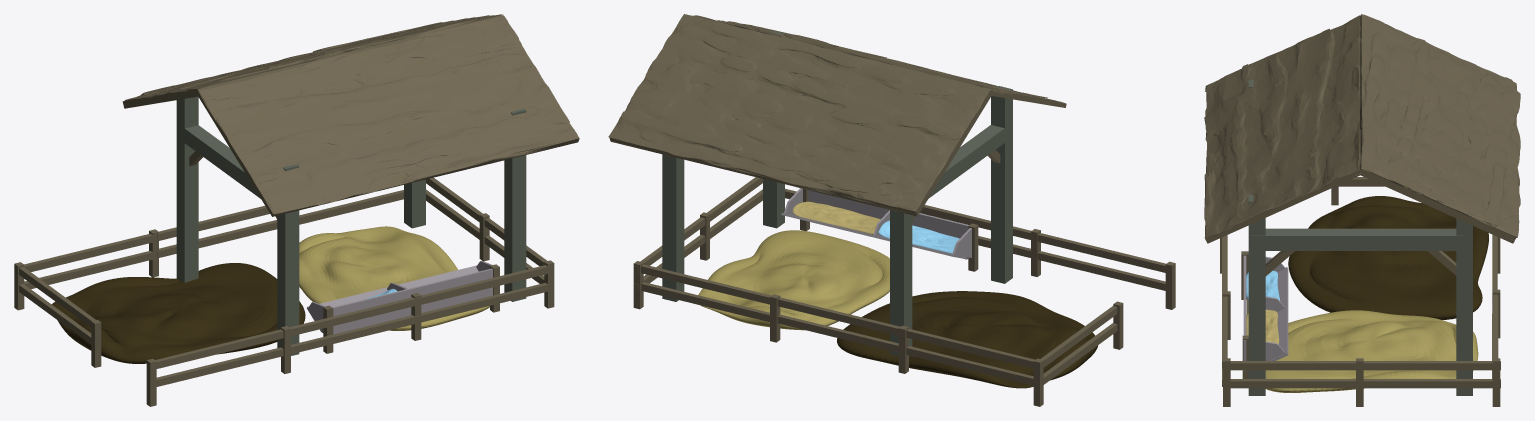
The model's file is свинарник.fbx.
The picture shows the model from 3 angles, left to right: view 1: azimuth 30°, elevation 25°; view 2: azimuth 150°, elevation 25°; view 3: azimuth 270°, elevation 25°; orthographic projection. The views are drawn at different scales.
Visible parts, largest first — view 1: Cube.005, Sphere, Sphere.003, Cube.004, Cube.002, Cube.042, Cube.003, Cube.006, Cube.034, Cube.018, Cube.019, Cube.021 (+16 smaller); view 2: Cube.004, Sphere, Sphere.003, Cube.006, Cube.001, Cube.002, Cube.005, Cube.034, Cube.042, Sphere.001, Cube.022, Cube.023 (+17 smaller); view 3: Cube.004, Cube.005, Sphere, Sphere.003, Cube.035, Cube.003, Cube.001, Cube, Cube.015, Cube.016, Cube.017, Cube.043 (+13 smaller).
Part boxes in pixels (bbox=[...]): Cube.005: bbox=[197, 16, 579, 216]; Sphere: bbox=[52, 263, 305, 363]; Sphere.003: bbox=[299, 226, 489, 330]; Cube.004: bbox=[122, 14, 503, 108]; Cube.002: bbox=[176, 96, 198, 282]; Cube.042: bbox=[332, 268, 492, 334]; Cube.003: bbox=[504, 108, 526, 301]; Cube.006: bbox=[277, 164, 299, 355]; Cube.034: bbox=[184, 125, 284, 215]; Cube.018: bbox=[419, 265, 550, 305]; Cube.019: bbox=[419, 283, 550, 322]; Cube.021: bbox=[290, 297, 419, 336]; Cube.004: bbox=[608, 14, 991, 216]; Sphere: bbox=[837, 291, 1097, 388]; Sphere.003: bbox=[698, 230, 889, 330]; Cube.006: bbox=[991, 86, 1012, 283]; Cube.001: bbox=[662, 154, 684, 301]; Cube.002: bbox=[890, 210, 912, 356]; Cube.005: bbox=[692, 15, 1066, 107]; Cube.034: bbox=[928, 123, 1012, 198]; Cube.042: bbox=[808, 190, 969, 238]; Sphere.001: bbox=[792, 201, 880, 234]; Cube.022: bbox=[641, 264, 771, 304]; Cube.023: bbox=[641, 282, 769, 321]; Cube.004: bbox=[1359, 14, 1520, 243]; Cube.005: bbox=[1204, 15, 1362, 243]; Sphere: bbox=[1288, 196, 1488, 319]; Sphere.003: bbox=[1265, 310, 1478, 392]; Cube.035: bbox=[1250, 228, 1464, 250]; Cube.003: bbox=[1248, 194, 1265, 395]; Cube.001: bbox=[1456, 218, 1472, 395]; Cube: bbox=[1363, 361, 1500, 370]; Cube.015: bbox=[1363, 379, 1500, 388]; Cube.016: bbox=[1230, 379, 1355, 388]; Cube.017: bbox=[1230, 361, 1355, 370]; Cube.043: bbox=[1269, 267, 1288, 360].
Size of the model in its own units: 2656 by 1533 by 1660.
